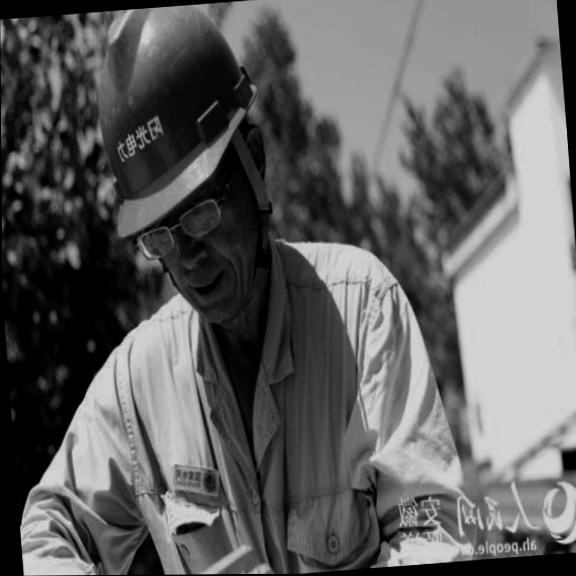no_safety_vest: (116, 239, 419, 575)
